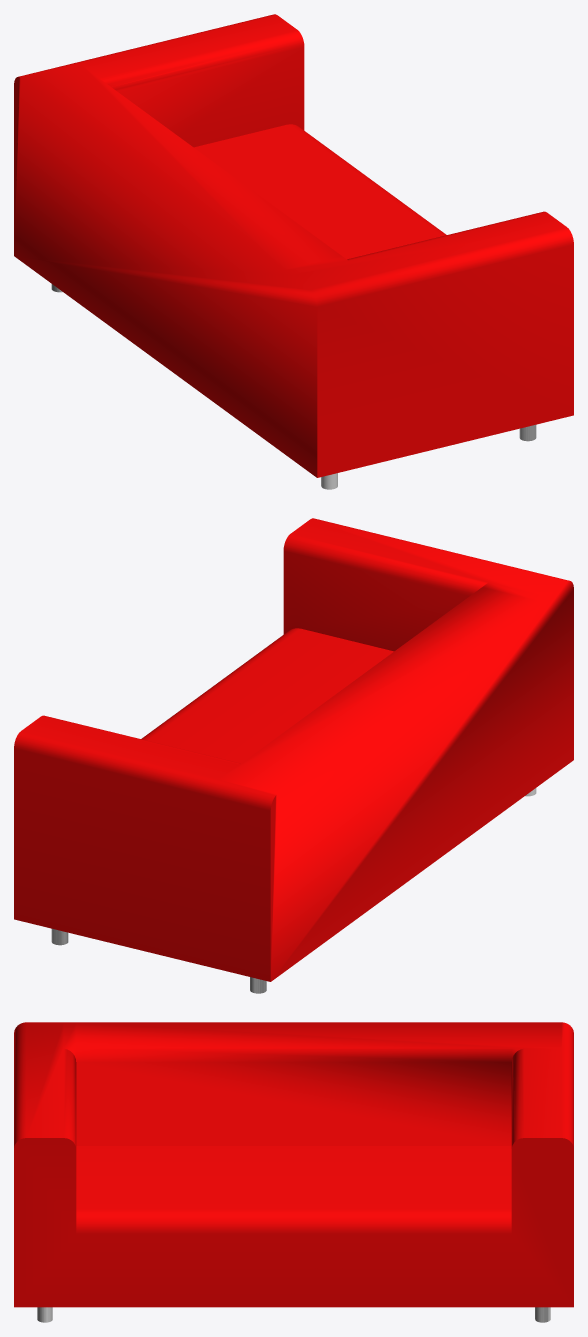
The model's file is klippan_sofa_2_obj0_object.obj.
The picture shows the model from 3 angles, top to bottom: view 1: azimuth 30°, elevation 25°; view 2: azimuth 150°, elevation 25°; view 3: azimuth 270°, elevation 25°; orthographic projection. The views are drawn at different scales.
Parts seen in each view (by area): view 1: Mesh1 Model; view 2: Mesh1 Model; view 3: Mesh1 Model.
Part boxes in pixels (x1,y1,x2,y2): Mesh1 Model: (14, 14, 573, 489); Mesh1 Model: (14, 518, 573, 993); Mesh1 Model: (14, 1022, 573, 1322).
Bounding box in the file's own units: 880 × 690 × 1800.
3 materials, 1 textured.
